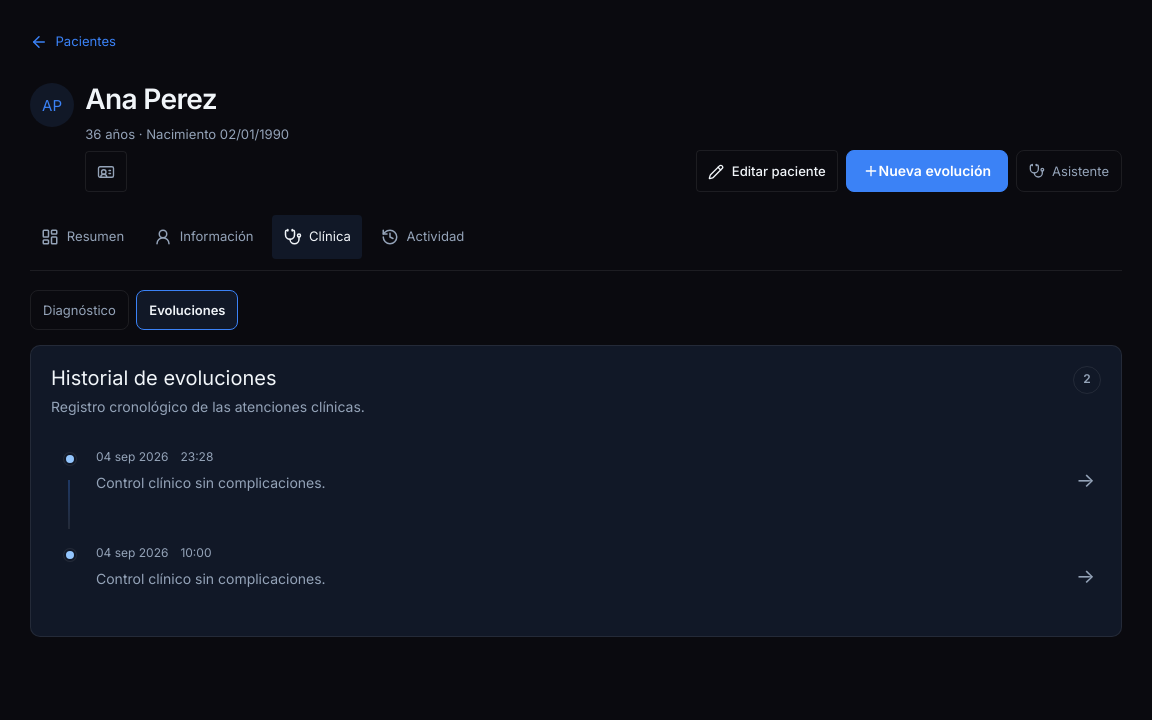
PatientDetail evolution workspace › uses one history with distinct times for same-day evolutions and retries detail errors
The image size is (1152, 720).
Click the link with aria-label "Ver evolución del" at (132, 553), box [64,545,1095,588]
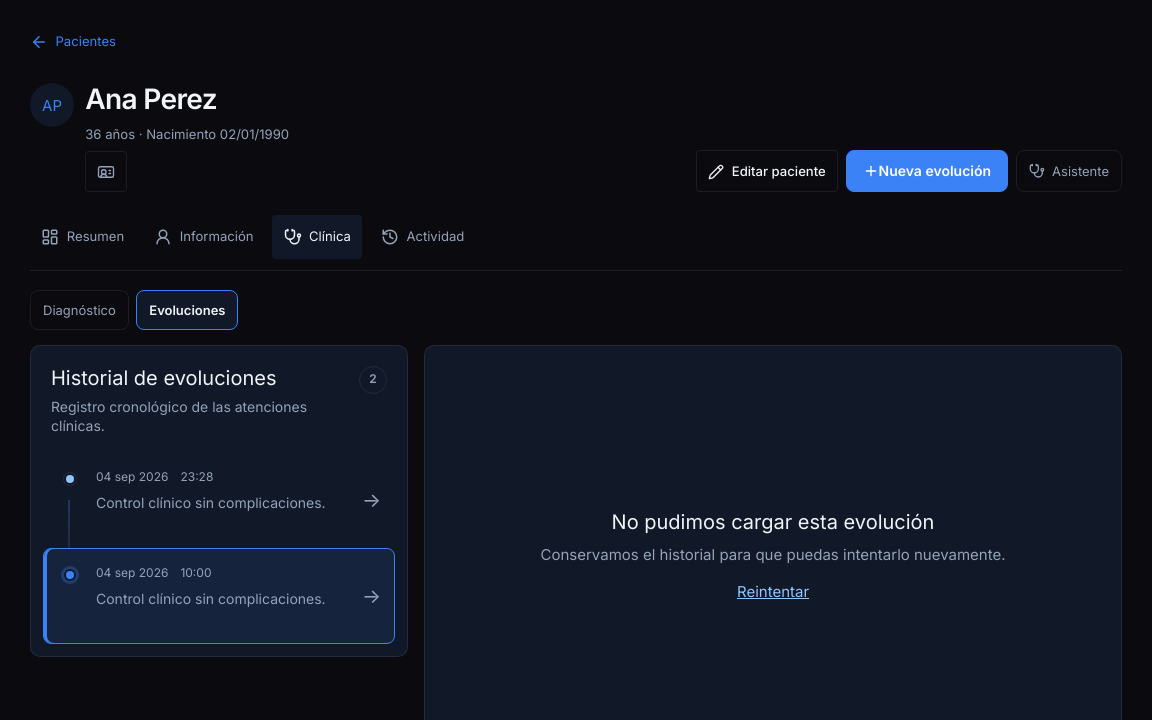
Check: the number of tabs is 4, box [30,215,135,259]; [143,215,265,259]; [272,215,362,259]; [370,215,476,259]
Check: the heading "No pudimos cargar esta evolución" is shown, box [612,508,934,536]
Click the button "Reintentar" at (773, 591), box [737,581,809,602]
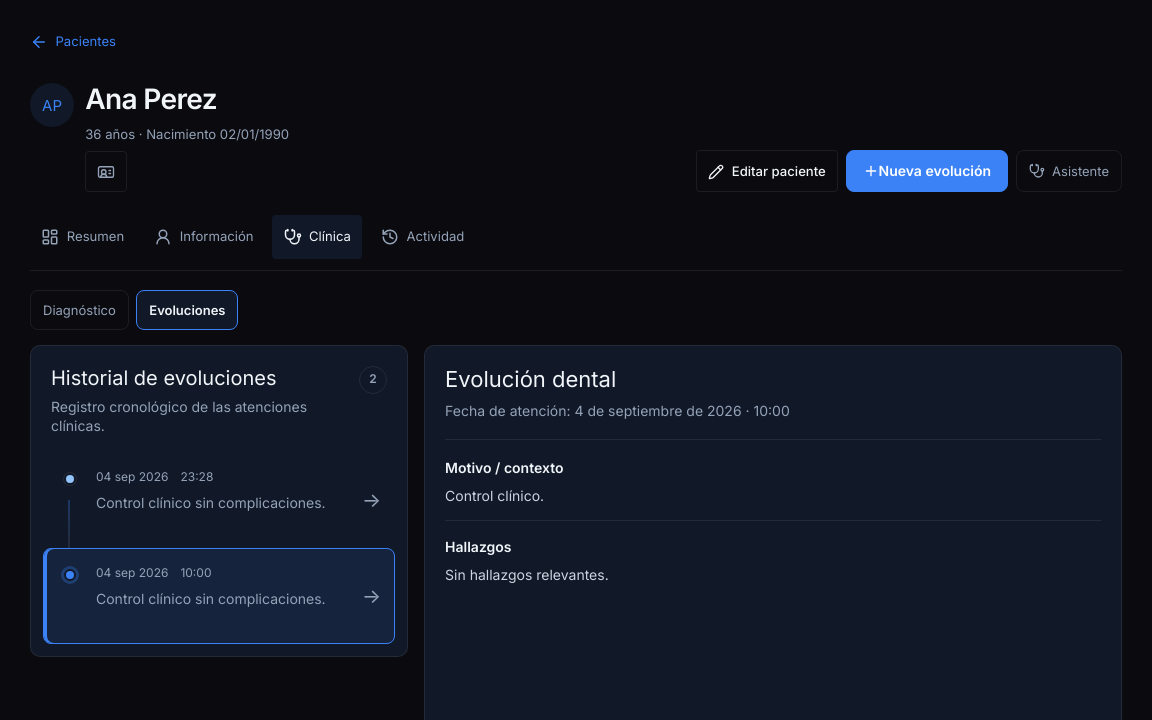
Check: the heading "Evolución dental" is shown, box [445,366,616,392]
